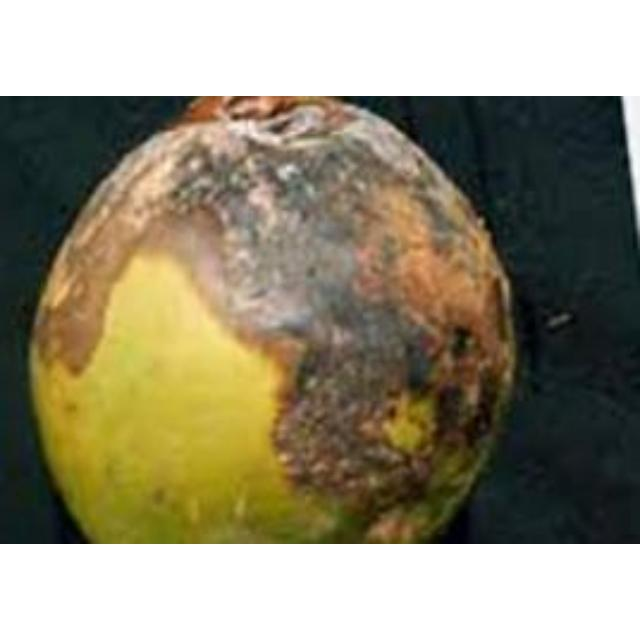damaged: (24, 96, 528, 543)
